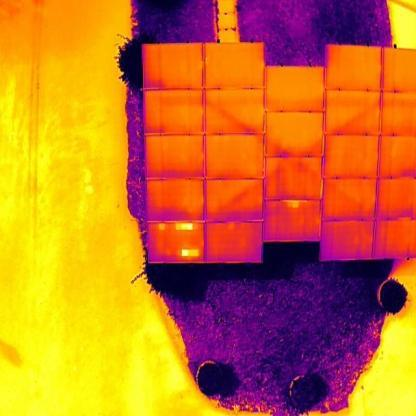anomaly: (280, 199, 303, 209), (178, 248, 200, 258), (174, 222, 194, 232), (158, 221, 167, 233)
